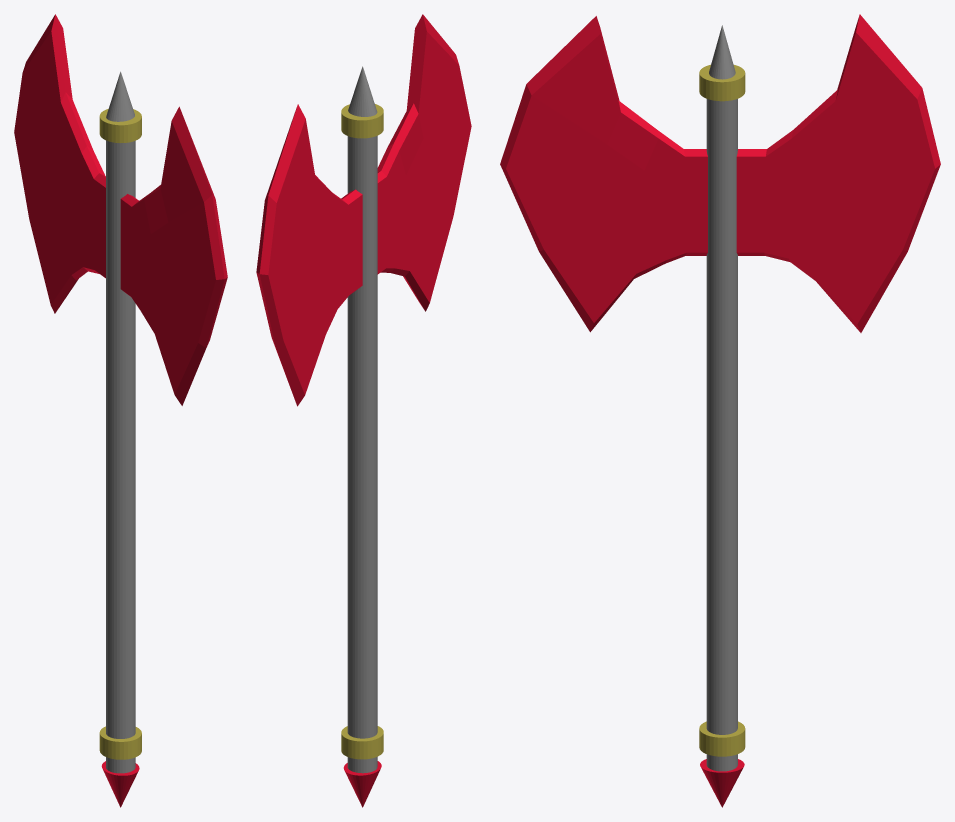
The model's file is BigAxe.fbx.
The picture shows the model from 3 angles, left to right: view 1: azimuth 30°, elevation 25°; view 2: azimuth 150°, elevation 25°; view 3: azimuth 270°, elevation 25°; orthographic projection. The views are drawn at different scales.
Parts seen in each view (by area): view 1: Cube.006, Cylinder.002, Cylinder.004, Cylinder.003, Cone, Cone.001; view 2: Cube.006, Cylinder.002, Cylinder.004, Cylinder.003, Cone, Cone.001; view 3: Cube.006, Cylinder.002, Cylinder.004, Cylinder.003, Cone.001, Cone.
Boxes of the visible parts, x1,y1,x2,y2 form: Cube.006: [14, 14, 227, 405]; Cylinder.002: [106, 140, 135, 773]; Cylinder.004: [99, 109, 141, 142]; Cylinder.003: [99, 726, 141, 759]; Cone: [106, 71, 134, 121]; Cone.001: [101, 761, 139, 807]; Cube.006: [256, 14, 471, 406]; Cylinder.002: [347, 135, 377, 773]; Cylinder.004: [341, 104, 383, 138]; Cylinder.003: [341, 726, 383, 759]; Cone: [348, 66, 377, 116]; Cone.001: [343, 761, 381, 807]; Cube.006: [500, 14, 940, 332]; Cylinder.002: [706, 99, 737, 771]; Cylinder.004: [699, 64, 745, 101]; Cylinder.003: [699, 721, 745, 756]; Cone.001: [700, 759, 744, 807]; Cone: [709, 25, 735, 79].
Bounding box in the file's own units: 1620 × 31813 × 16015.
